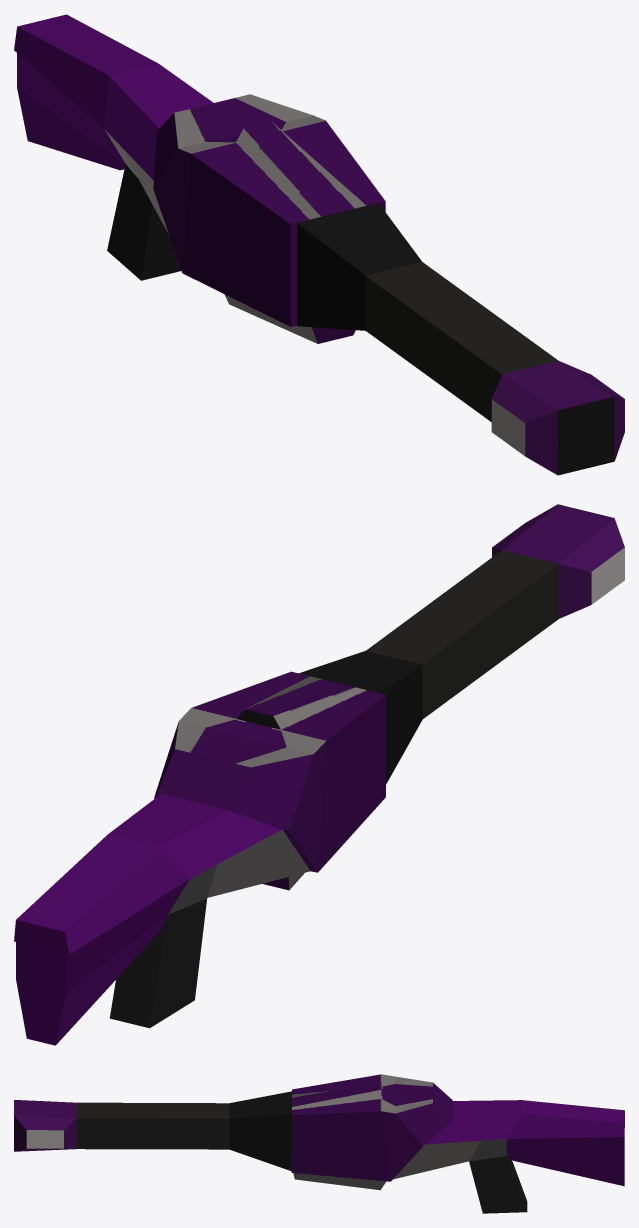
The model's file is laser_rifle.obj.
The picture shows the model from 3 angles, top to bottom: view 1: azimuth 30°, elevation 25°; view 2: azimuth 150°, elevation 25°; view 3: azimuth 270°, elevation 25°; orthographic projection. The views are drawn at different scales.
Visible parts, largest first — view 1: Cube_Cube.001; view 2: Cube_Cube.001; view 3: Cube_Cube.001.
Part boxes in pixels (bbox=[...]): Cube_Cube.001: bbox=[14, 14, 624, 475]; Cube_Cube.001: bbox=[14, 504, 624, 1045]; Cube_Cube.001: bbox=[14, 1074, 624, 1213].
Size of the model in its own units: 1.26 by 1.92 by 8.8.
